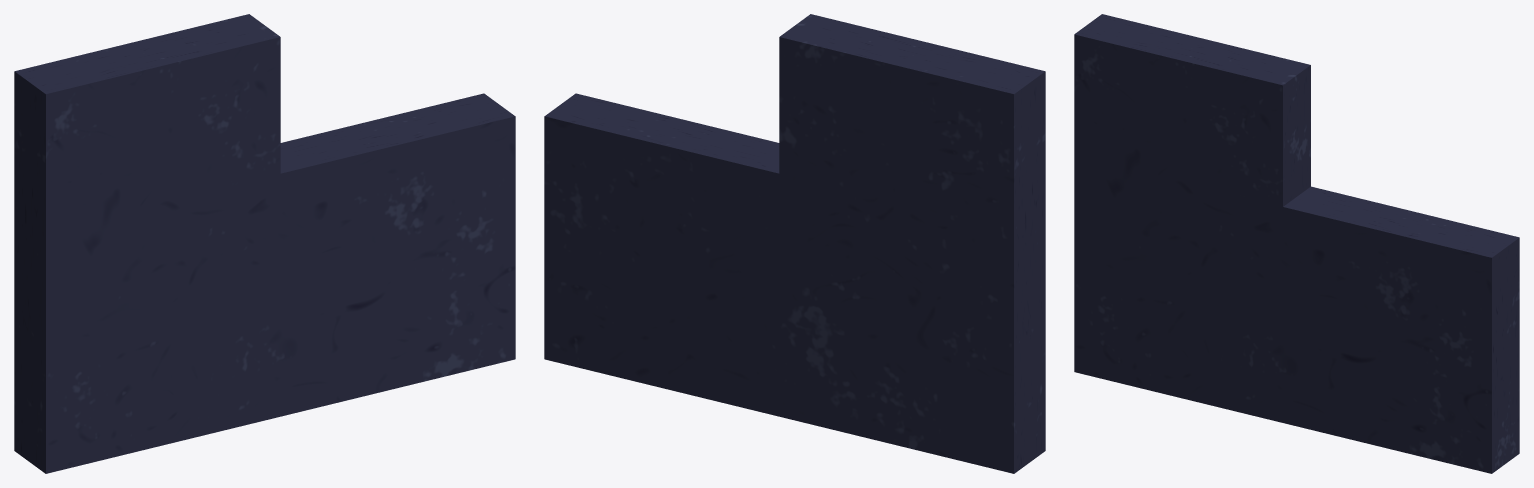
The picture shows the model from 3 angles, left to right: view 1: azimuth 30°, elevation 25°; view 2: azimuth 150°, elevation 25°; view 3: azimuth 330°, elevation 25°; orthographic projection. The views are drawn at different scales.
Visible parts, largest first — view 1: w_Low_L2; view 2: w_Low_L2; view 3: w_Low_L2.
Boxes of the visible parts, left/top/right/bottom form: w_Low_L2: left=14, top=14, right=515, bottom=473; w_Low_L2: left=544, top=14, right=1045, bottom=473; w_Low_L2: left=1074, top=14, right=1519, bottom=473.
Bounding box in the file's own units: 260 × 201 × 30.1.
Materials: 1 (1 with a texture image).
